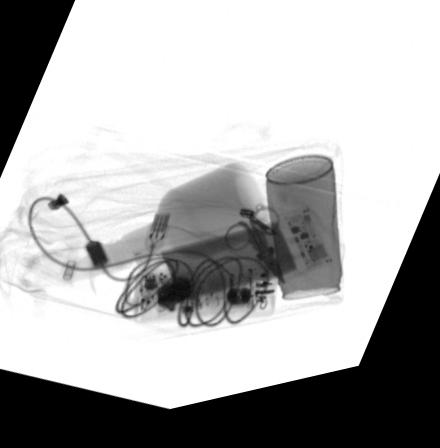Powerbank: (131, 220, 332, 323)
Scissors: (221, 217, 286, 294)
